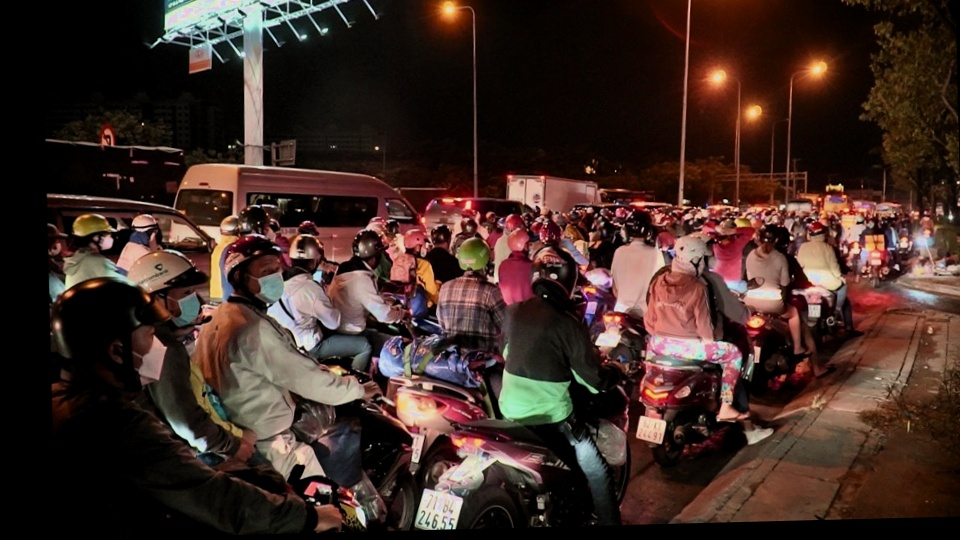Bien-so: (342, 496, 396, 538), (571, 442, 605, 477), (540, 359, 570, 377), (757, 350, 771, 363)
